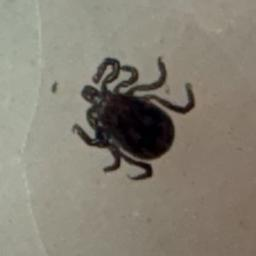Ixodes scapularis: (71, 55, 195, 184)
